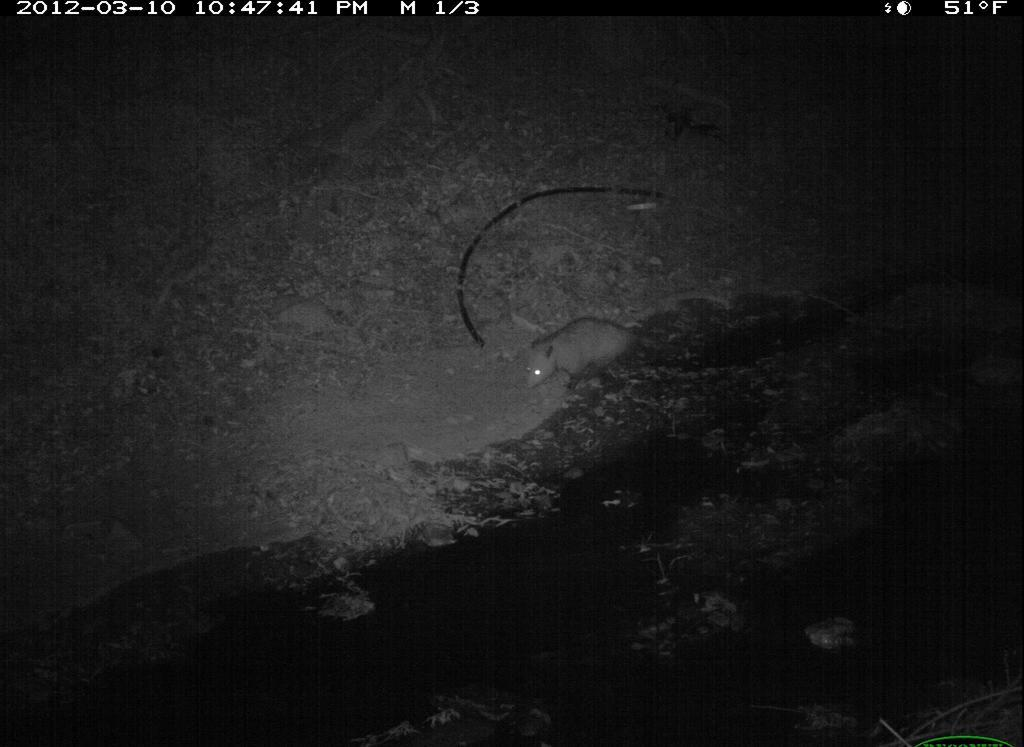opossum: (523, 310, 699, 406)
